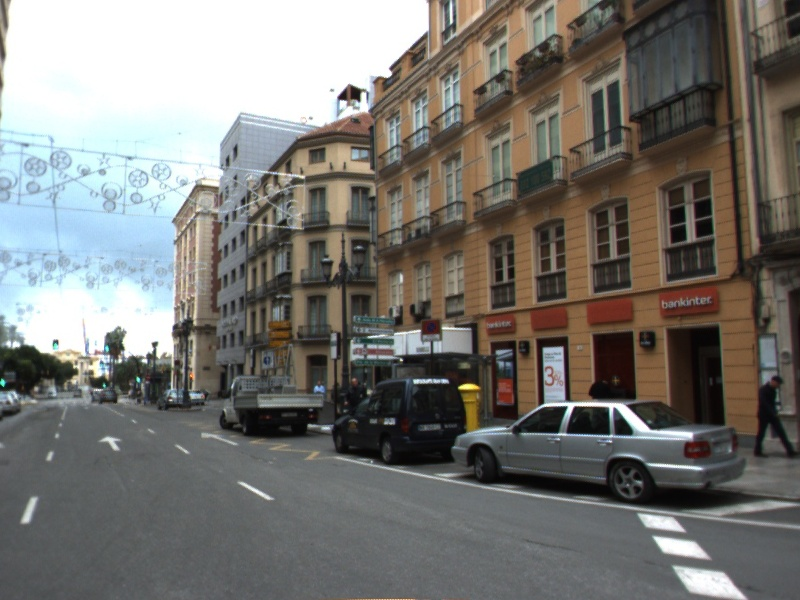STRAIGHT: (198, 429, 243, 448), (96, 434, 126, 453)
